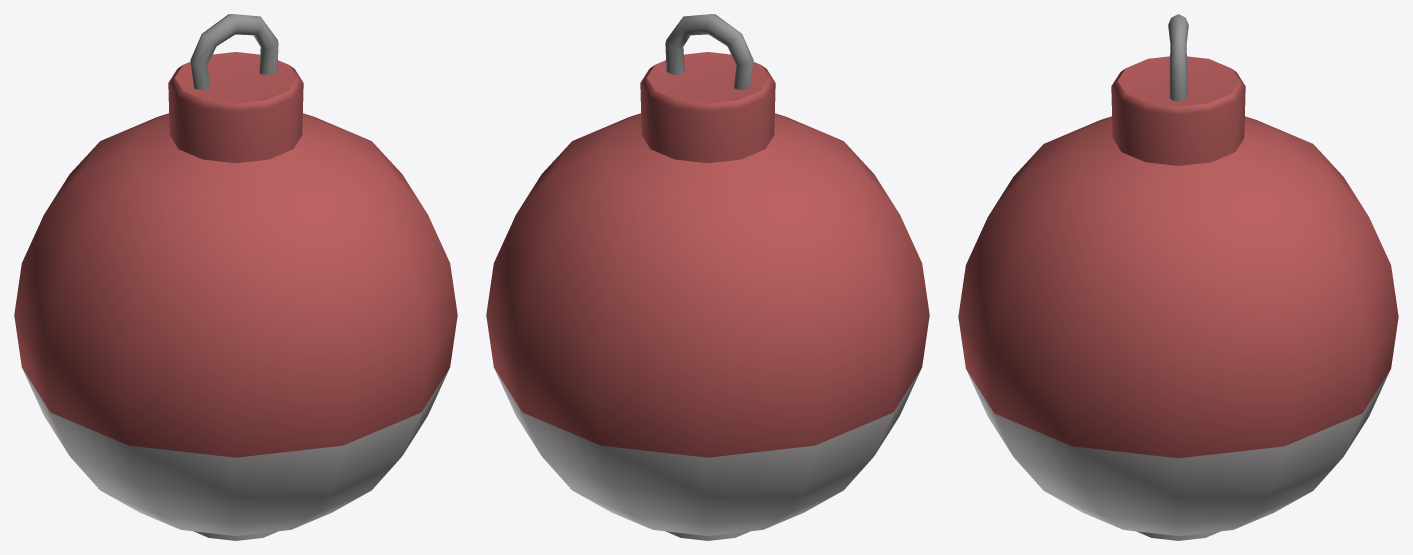
Rendered from bobber1.fbx.
3 views of the same model, side by side, from view 1: azimuth 30°, elevation 25°; view 2: azimuth 150°, elevation 25°; view 3: azimuth 270°, elevation 25° (orthographic).
Visible parts, largest first — view 1: bobber1; view 2: bobber1; view 3: bobber1.
Part boxes in pixels (left/top/right/bottom): bobber1: left=14, top=14, right=457, bottom=540; bobber1: left=486, top=14, right=929, bottom=540; bobber1: left=958, top=14, right=1398, bottom=540.
Bounding box in the file's own units: 8.7 × 10.99 × 8.7.
